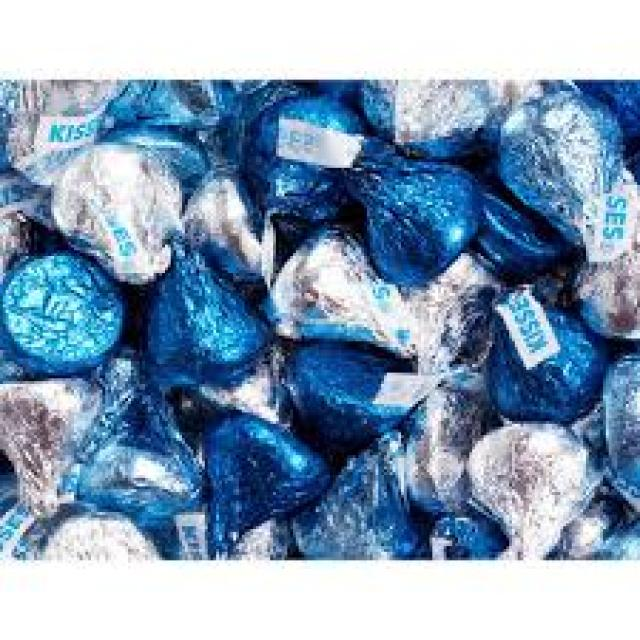kisses: (262, 227, 422, 364), (460, 410, 602, 560), (50, 140, 186, 283), (395, 378, 492, 528), (4, 371, 98, 515), (395, 252, 498, 373), (573, 172, 640, 348), (358, 77, 490, 166), (42, 503, 177, 566)
